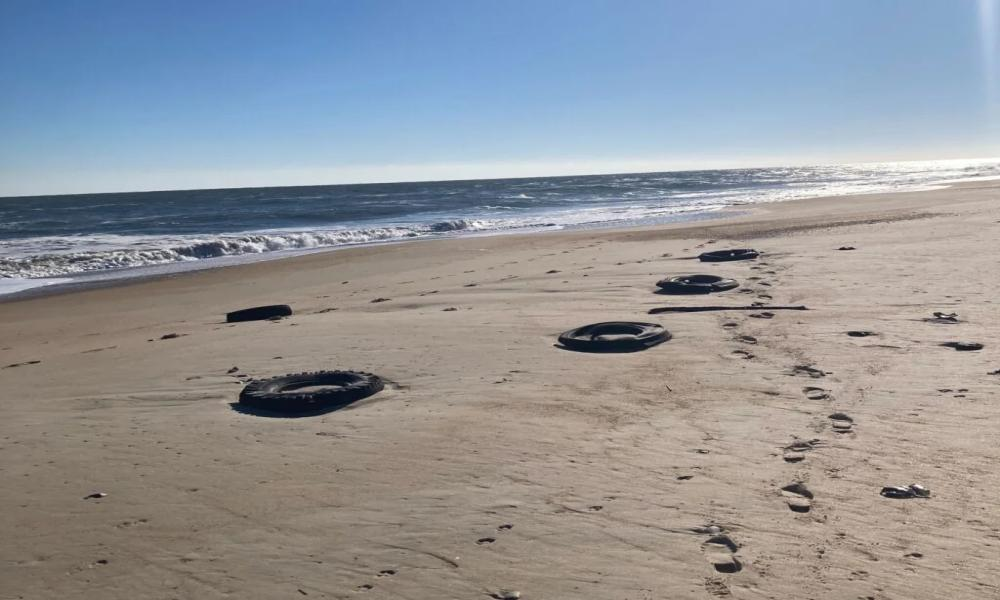tire: (238, 370, 380, 418), (556, 321, 674, 355), (656, 273, 736, 295), (224, 302, 292, 325), (700, 250, 762, 262)
